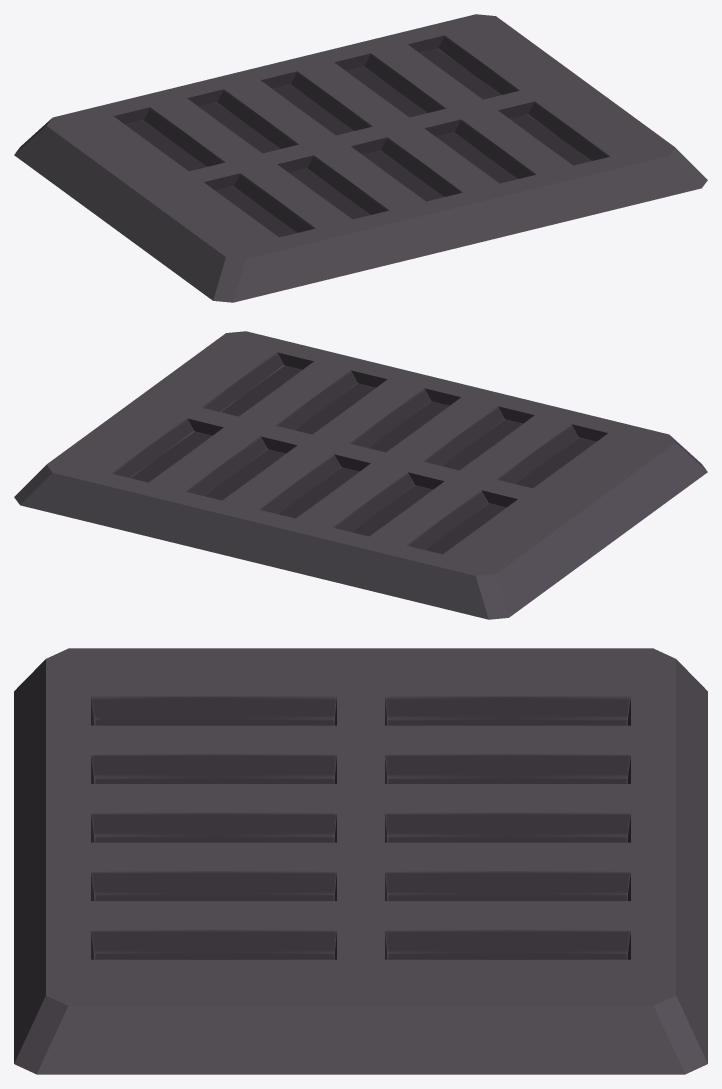
Rendered from Brush.fbx.
The picture shows the model from 3 angles, top to bottom: view 1: azimuth 30°, elevation 25°; view 2: azimuth 150°, elevation 25°; view 3: azimuth 270°, elevation 25°; orthographic projection. The views are drawn at different scales.
Visible parts, largest first — view 1: pCube2; view 2: pCube2; view 3: pCube2.
Boxes of the visible parts, x1,y1,x2,y2 form: pCube2: (14,14,707,302); pCube2: (14,331,707,619); pCube2: (14,648,707,1074).
Size of the model in its own units: 1 by 0.0599 by 0.7452.
Materials: 1 (1 with a texture image).
